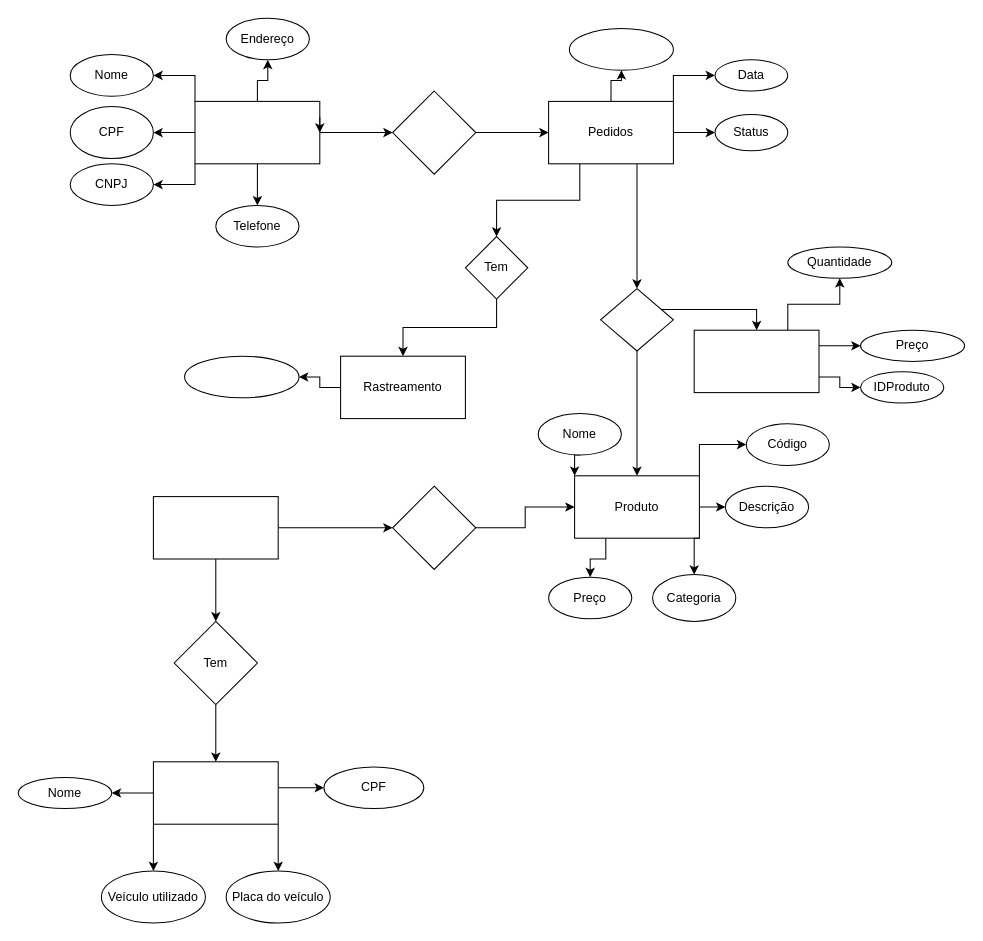
Some shapes in this 983 by 941 pixel diagram are drawn without their labels. The centre of each missing label's shape, as x and y in pixels:
Clientes: (x=257, y=132)
Código único: (x=620, y=49)
Empresa: (x=215, y=527)
Entregador: (x=215, y=792)
IDPedido: (x=241, y=376)
Item: (x=756, y=361)
Possui: (x=636, y=319)
Realiza: (x=434, y=132)
Trabalha: (x=434, y=527)
